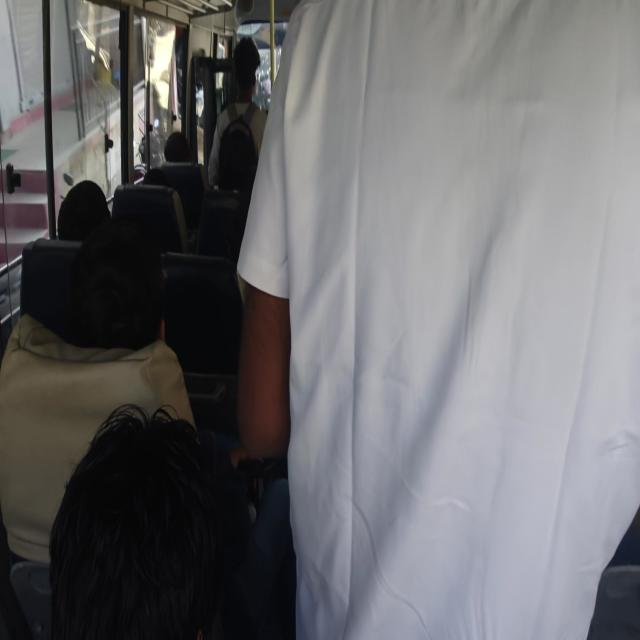person: (276, 0, 640, 640), (70, 412, 244, 621), (89, 243, 180, 355), (185, 216, 239, 280), (231, 22, 270, 109), (62, 183, 112, 233), (138, 160, 175, 208), (216, 169, 250, 216), (166, 126, 200, 167)
